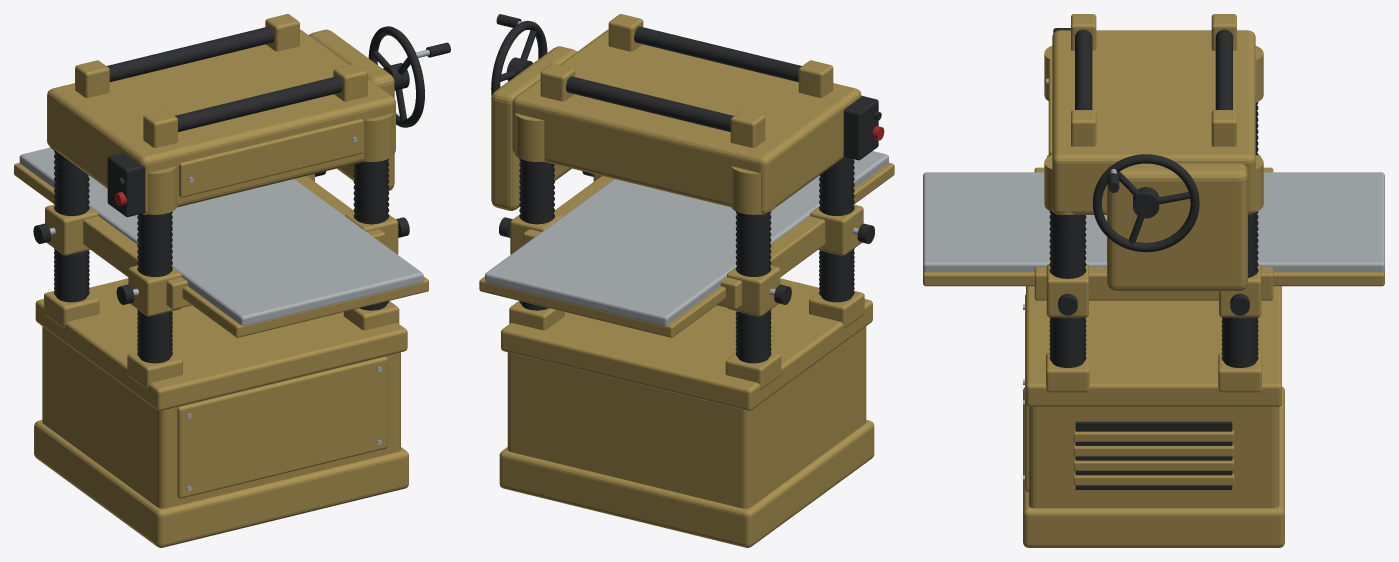
3 views of the same model, side by side, from view 1: azimuth 30°, elevation 25°; view 2: azimuth 150°, elevation 25°; view 3: azimuth 270°, elevation 25° (orthographic). The views are drawn at different scales.
Visible parts, largest first — view 1: Wide overhead cutter housing, Continuous steel feed bed, Front cabinet access panel, Upper cabinet support deck, Closed lower machine cabinet, Integral floor plinth, Front head service fascia, Front extension support apron, Upper stock return roller 0.18, Upper stock return roller -0.18, Bed side support rail -1, Upper column bellows (-0.33, -0.22) (+21 smaller); view 2: Closed lower machine cabinet, Wide overhead cutter housing, Continuous steel feed bed, Upper cabinet support deck, Integral floor plinth, Right transmission housing, Rear extension support apron, Upper stock return roller 0.18, Upper stock return roller -0.18, Bed side support rail -1, Upper column bellows (-0.33, 0.22), Upper column bellows (0.33, 0.22) (+19 smaller); view 3: Continuous steel feed bed, Wide overhead cutter housing, Upper cabinet support deck, Right transmission housing, Closed lower machine cabinet, Integral floor plinth, Right cabinet vent backing, Height handwheel rim, Bed side support rail 1, Upper column bellows (0.33, -0.22), Lower column bellows (0.33, -0.22), Lower column bellows (0.33, 0.22) (+18 smaller).
Boxes of the visible parts, x1,y1,x2,y2 form: Wide overhead cutter housing: [47, 29, 395, 214]; Continuous steel feed bed: [19, 147, 423, 325]; Front cabinet access panel: [177, 356, 387, 498]; Upper cabinet support deck: [35, 278, 407, 410]; Closed lower machine cabinet: [42, 326, 400, 508]; Integral floor plinth: [34, 420, 408, 547]; Front head service fascia: [179, 119, 363, 197]; Front extension support apron: [182, 276, 428, 337]; Upper stock return roller 0.18: [106, 26, 274, 82]; Upper stock return roller -0.18: [175, 76, 342, 131]; Bed side support rail -1: [83, 216, 191, 309]; Upper column bellows (-0.33, -0.22): [137, 211, 172, 276]; Closed lower machine cabinet: [507, 326, 866, 508]; Wide overhead cutter housing: [512, 29, 861, 214]; Continuous steel feed bed: [485, 151, 888, 325]; Upper cabinet support deck: [501, 278, 872, 410]; Integral floor plinth: [499, 420, 874, 547]; Right transmission housing: [491, 46, 576, 210]; Rear extension support apron: [479, 276, 725, 337]; Upper stock return roller 0.18: [566, 76, 733, 131]; Upper stock return roller -0.18: [634, 26, 801, 82]; Bed side support rail -1: [717, 216, 825, 309]; Upper column bellows (-0.33, 0.22): [735, 211, 771, 276]; Upper column bellows (0.33, 0.22): [519, 158, 554, 224]; Continuous steel feed bed: [923, 172, 1384, 271]; Wide overhead cutter housing: [1052, 30, 1255, 214]; Upper cabinet support deck: [1026, 286, 1281, 406]; Right transmission housing: [1107, 163, 1247, 291]; Closed lower machine cabinet: [1028, 407, 1279, 508]; Integral floor plinth: [1023, 386, 1284, 547]; Right cabinet vent backing: [1075, 421, 1232, 489]; Height handwheel rim: [1092, 154, 1199, 252]; Bed side support rail 1: [1034, 267, 1273, 300]; Upper column bellows (0.33, -0.22): [1049, 211, 1086, 278]; Lower column bellows (0.33, -0.22): [1049, 317, 1086, 367]; Lower column bellows (0.33, 0.22): [1221, 317, 1258, 367].
Bounding box in the file's own units: 109 × 118 × 118.
